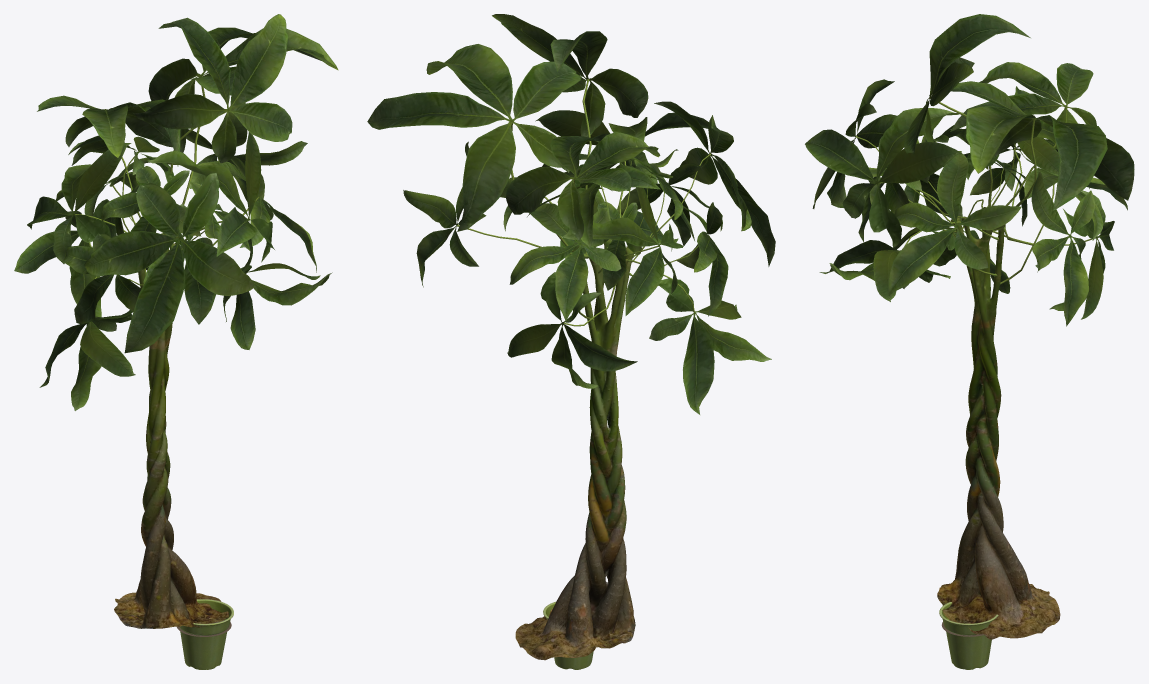
The model's file is ph-money-tree-avocado.glb.
3 views of the same model, side by side, from view 1: azimuth 30°, elevation 25°; view 2: azimuth 150°, elevation 25°; view 3: azimuth 270°, elevation 25° (orthographic).
Parts seen in each view (by area): view 1: pachira_aquatica_01_leaves_a, pachira_aquatica_01_bark_a, Ecoforms_Planter_Pot_GP12AAvocado; view 2: pachira_aquatica_01_leaves_a, pachira_aquatica_01_bark_a; view 3: pachira_aquatica_01_leaves_a, pachira_aquatica_01_bark_a, Ecoforms_Planter_Pot_GP12AAvocado.
Part boxes in pixels (left/top/right/bottom): pachira_aquatica_01_leaves_a: left=14, top=14, right=338, bottom=410; pachira_aquatica_01_bark_a: left=114, top=233, right=228, bottom=628; Ecoforms_Planter_Pot_GP12AAvocado: left=179, top=599, right=233, bottom=669; pachira_aquatica_01_leaves_a: left=367, top=14, right=775, bottom=414; pachira_aquatica_01_bark_a: left=515, top=239, right=635, bottom=660; pachira_aquatica_01_leaves_a: left=805, top=14, right=1134, bottom=326; pachira_aquatica_01_bark_a: left=937, top=207, right=1060, bottom=639; Ecoforms_Planter_Pot_GP12AAvocado: left=939, top=602, right=998, bottom=669.
Size of the model in its own units: 0.7439 by 1.38 by 0.6466.
4 materials, 3 textured.
